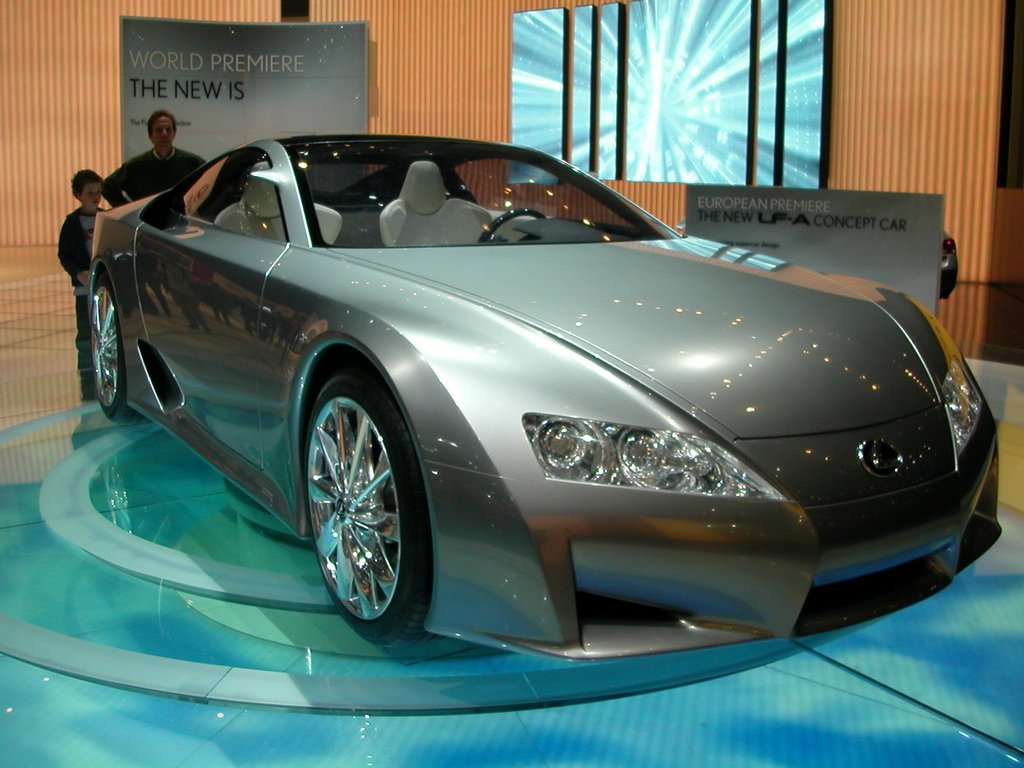Person: (54, 168, 113, 370), (99, 107, 207, 208)
